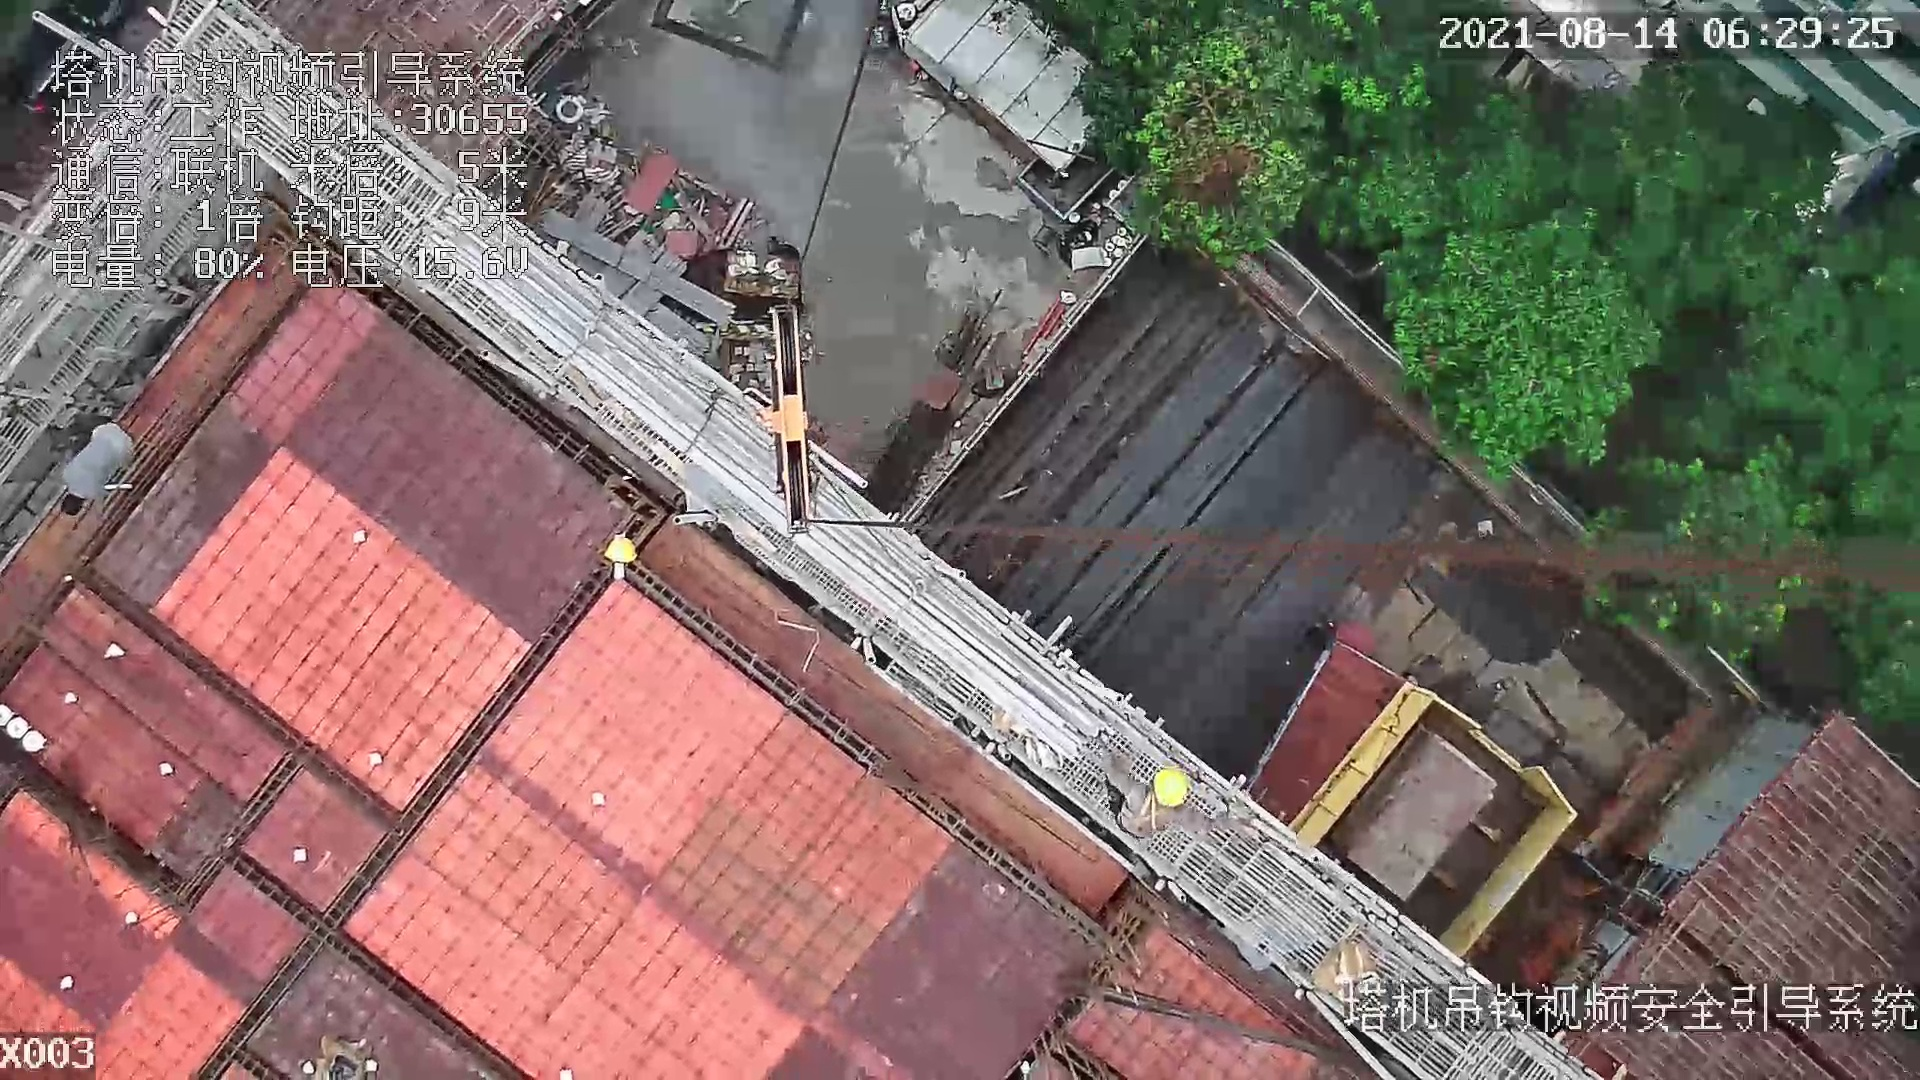helmet: (1154, 765, 1191, 806), (601, 533, 646, 562)
hook: (758, 300, 818, 536)
person: (1097, 745, 1264, 854)
rebar: (915, 218, 1436, 701)
